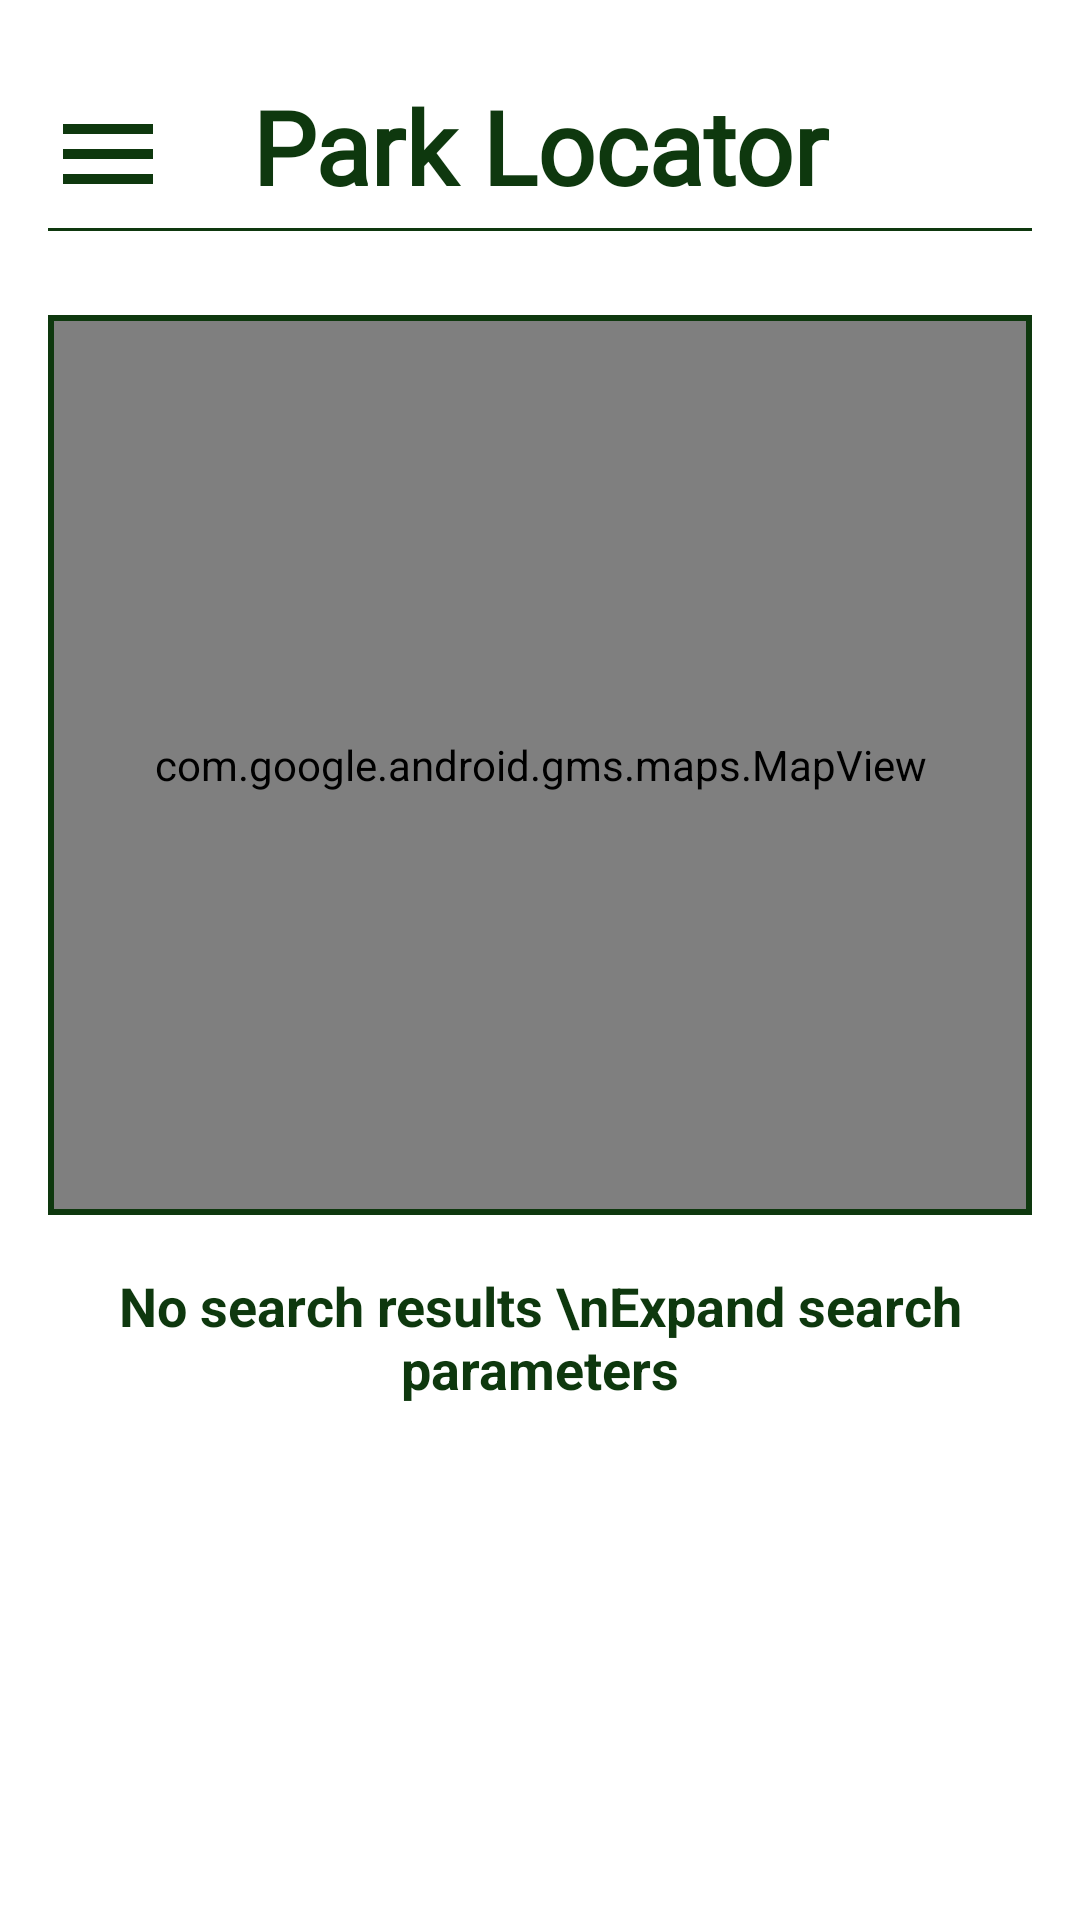

Icon bounding boxes for this 1080 x 1920 phone screenshot, format (x1, y1, x2, y2):
menu: (63, 124, 153, 184)
